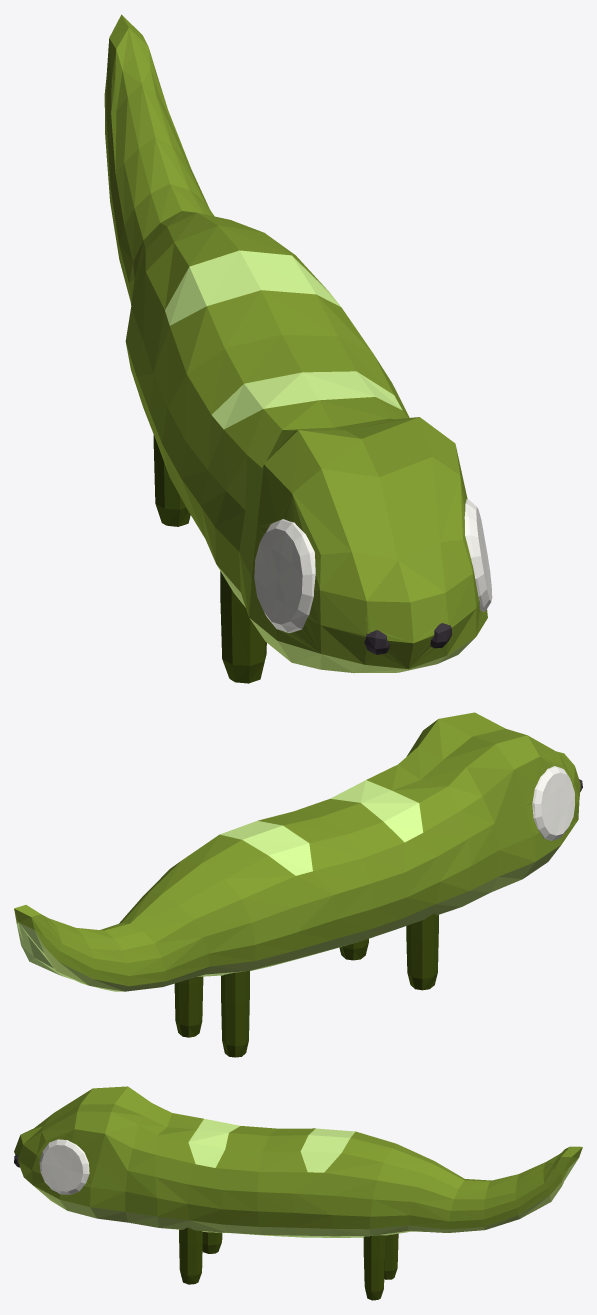
The model's file is swgekko.glb.
3 views of the same model, one above another, from view 1: azimuth 30°, elevation 25°; view 2: azimuth 150°, elevation 25°; view 3: azimuth 270°, elevation 25° (orthographic). The views are drawn at different scales.
Parts seen in each view (by area): view 1: Mesh_3; view 2: Mesh_3; view 3: Mesh_3.
Boxes of the visible parts, left/top/right/bottom form: Mesh_3: left=104, top=14, right=492, bottom=683; Mesh_3: left=14, top=712, right=582, bottom=1057; Mesh_3: left=14, top=1086, right=582, bottom=1300.
Size of the model in its own units: 0.4655 by 0.4178 by 1.3.
1 material, 1 textured.
